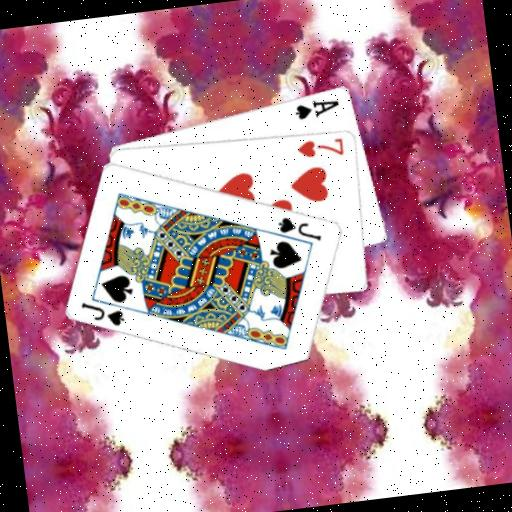7H: (294, 133, 347, 162)
AS: (292, 93, 343, 122)
JS: (78, 294, 128, 332), (274, 210, 324, 247)
